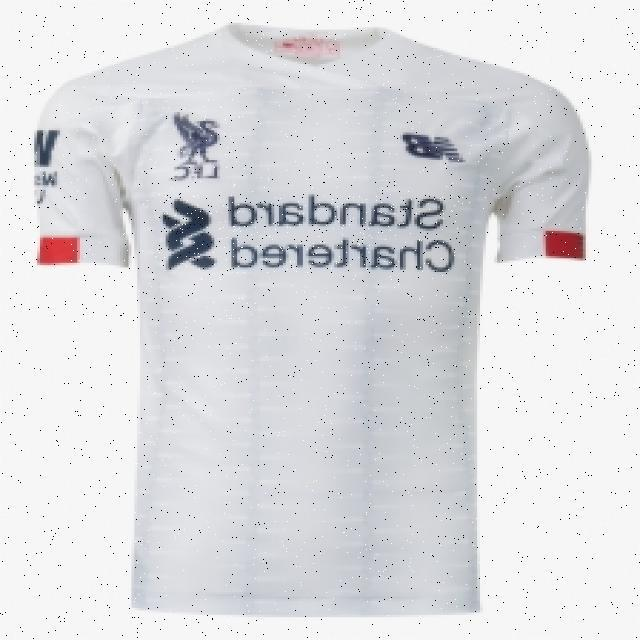Standard Chartered: (155, 195, 460, 273)
